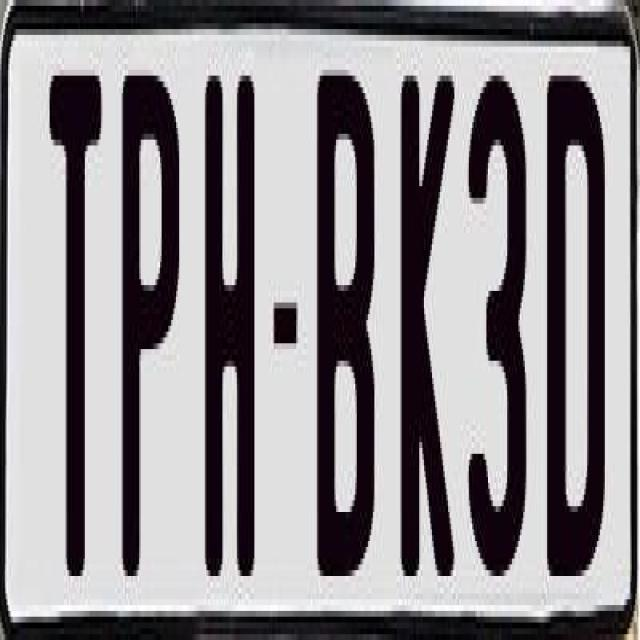3: (467, 64, 525, 570)
B: (312, 58, 374, 559)
D: (546, 63, 612, 564)
H: (204, 70, 262, 588)
K: (402, 70, 458, 570)
P: (117, 70, 181, 600)
T: (46, 58, 108, 594)
